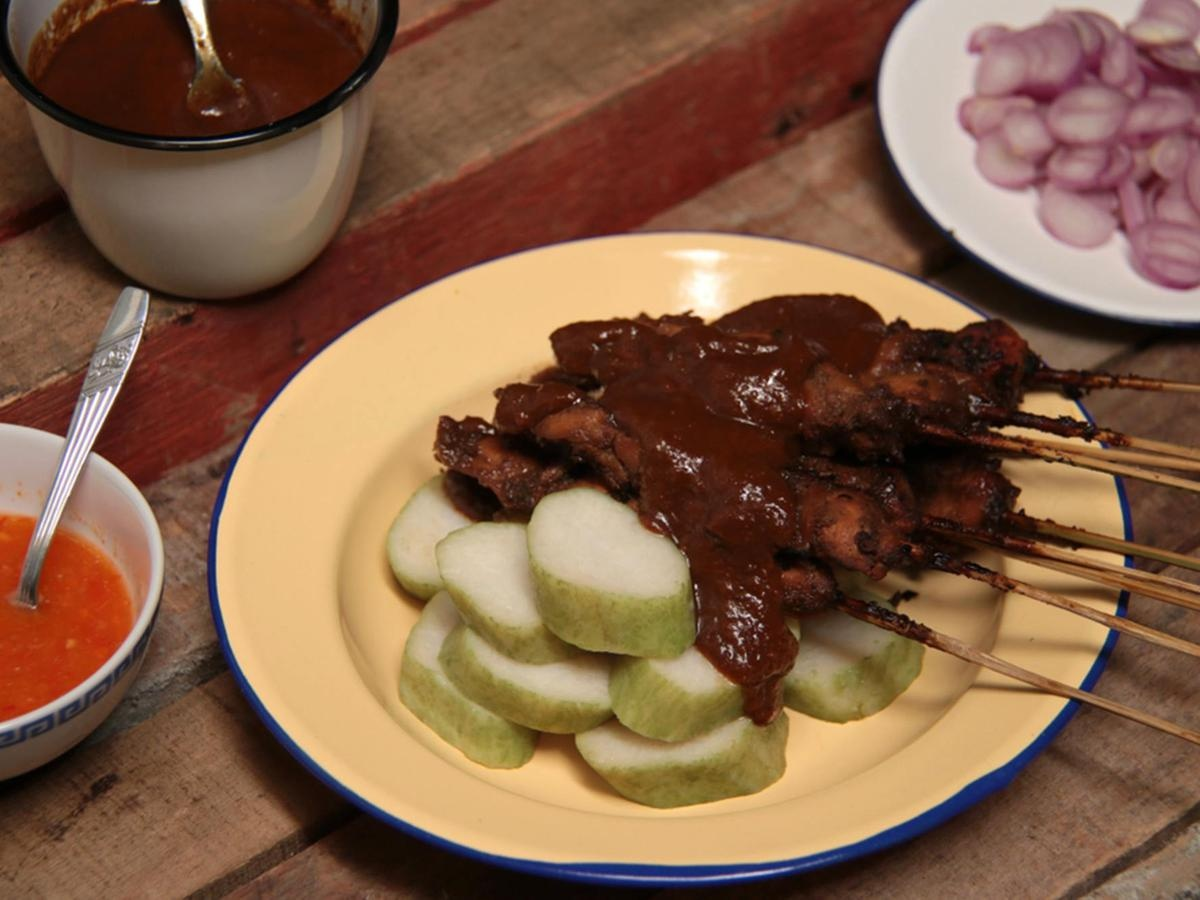sate_madura: (408, 241, 1200, 714)
